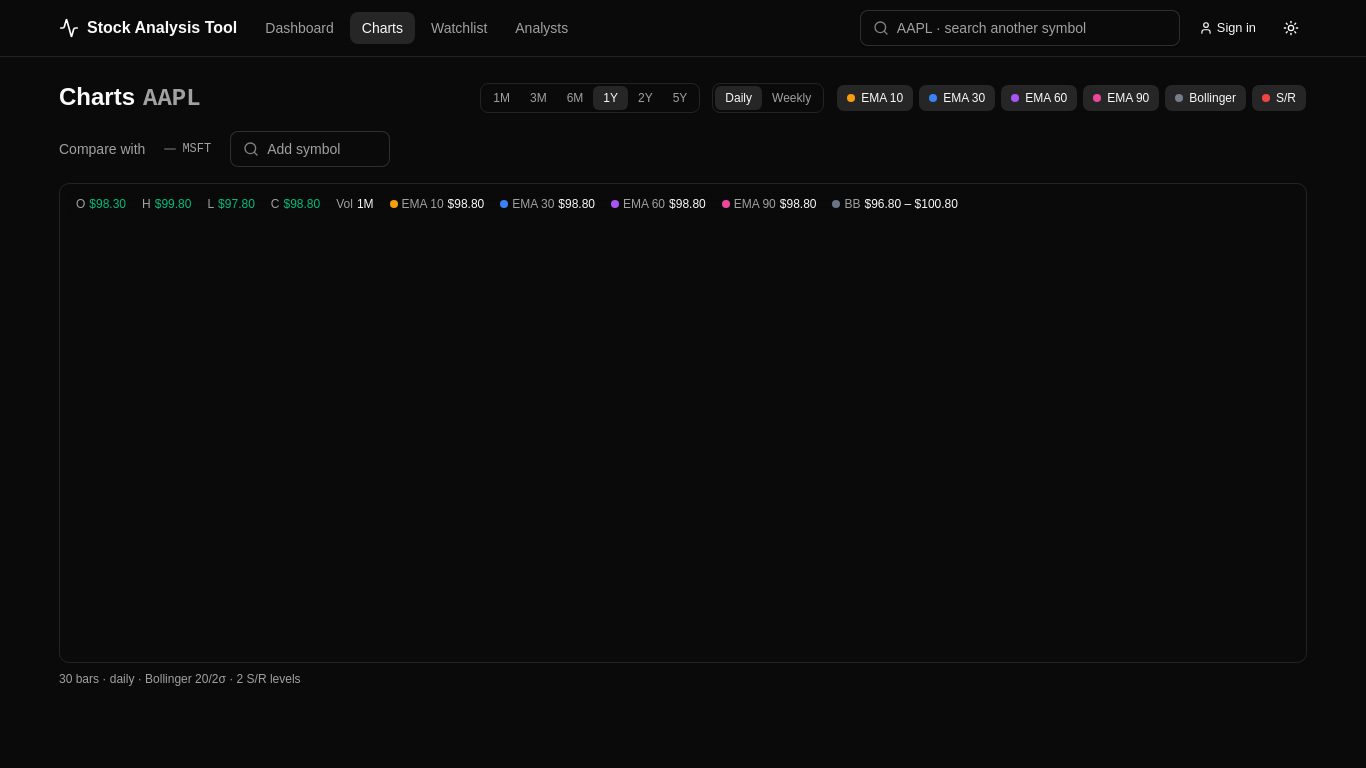
it: compare mode › chips toggle tracked symbols in and out of the comparison
Expected: the element with test id "price-chart" is shown, [59, 183, 1307, 663]
Click the button "MSFT".
click(188, 149)  # box [153, 135, 222, 163]
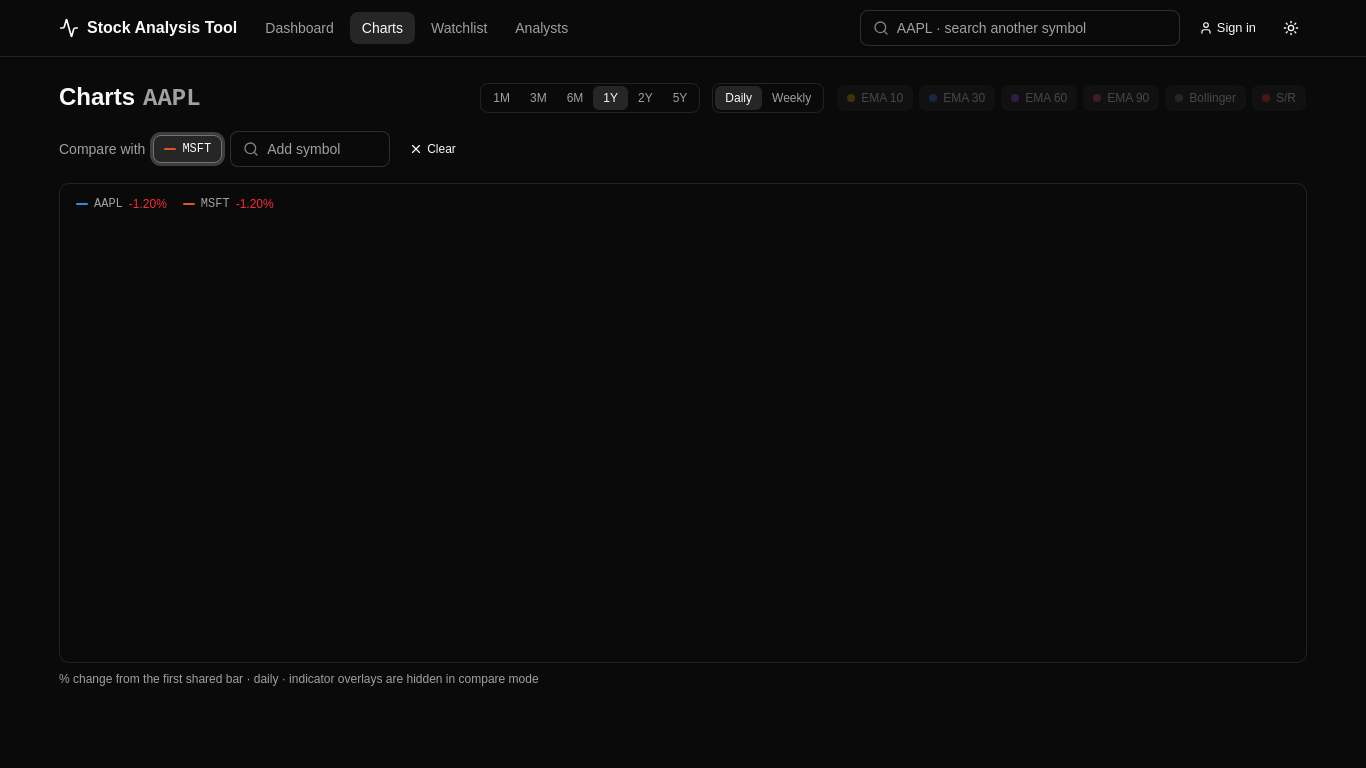
Expected: the element with test id "compare-chart" is shown, [59, 183, 1307, 663]
Click the button "Clear".
click(433, 149)  # box [398, 135, 467, 163]
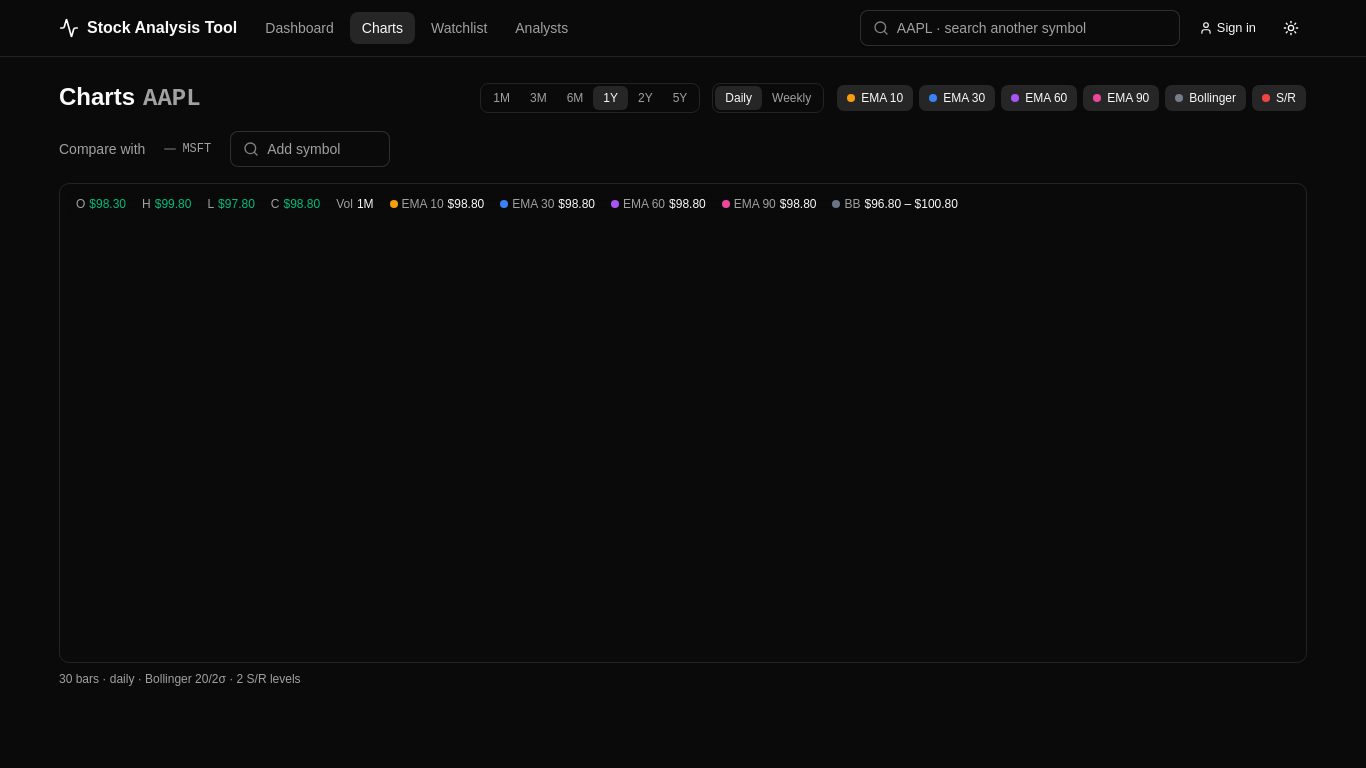
Expected: the element with test id "price-chart" is shown, [59, 183, 1307, 663]
